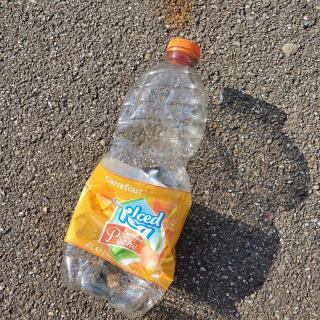Plastic-bottle: (58, 33, 212, 320)
